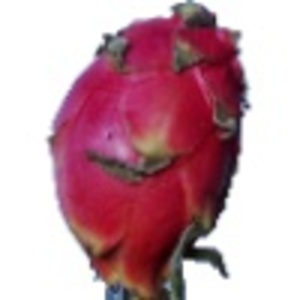pitaia: (49, 1, 252, 300)
